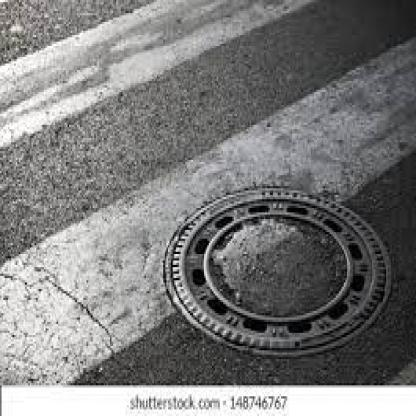open drainage-not overflowing-: (158, 187, 391, 354)
